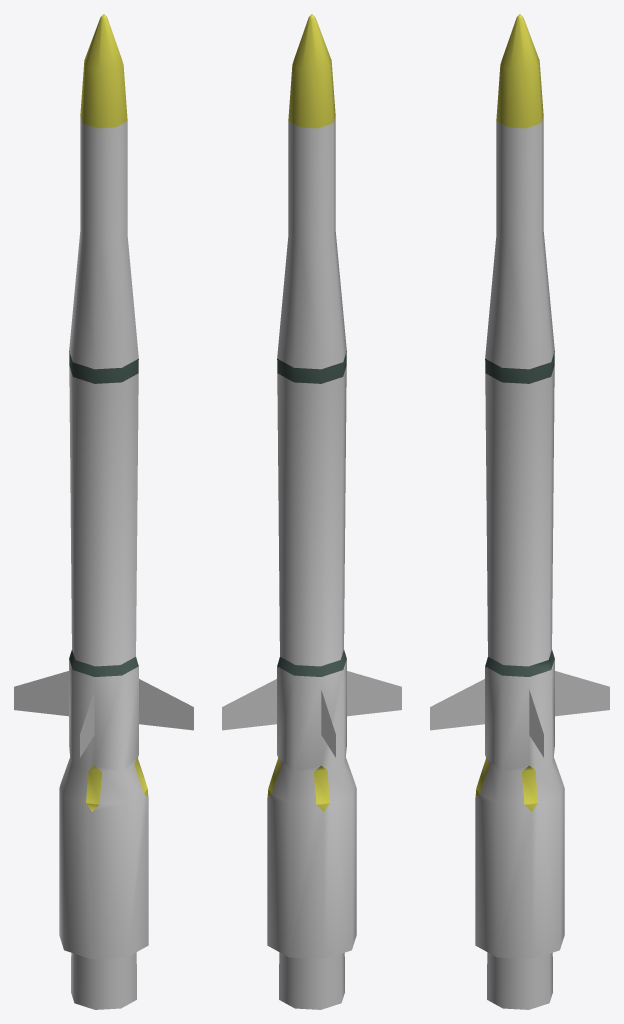
Rendered from ks-172-novator.glb.
The picture shows the model from 3 angles, left to right: view 1: azimuth 30°, elevation 25°; view 2: azimuth 150°, elevation 25°; view 3: azimuth 330°, elevation 25°; orthographic projection.
Visible parts, largest first — view 1: KS-172 Novator; view 2: KS-172 Novator; view 3: KS-172 Novator.
Boxes of the visible parts, left/top/right/bottom form: KS-172 Novator: left=14, top=14, right=193, bottom=1009; KS-172 Novator: left=222, top=14, right=401, bottom=1009; KS-172 Novator: left=430, top=14, right=609, bottom=1009.
Bounding box in the file's own units: 0.2914 × 2.4 × 0.2914.
